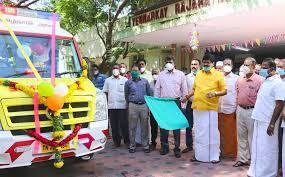ER: (0, 5, 109, 168)
